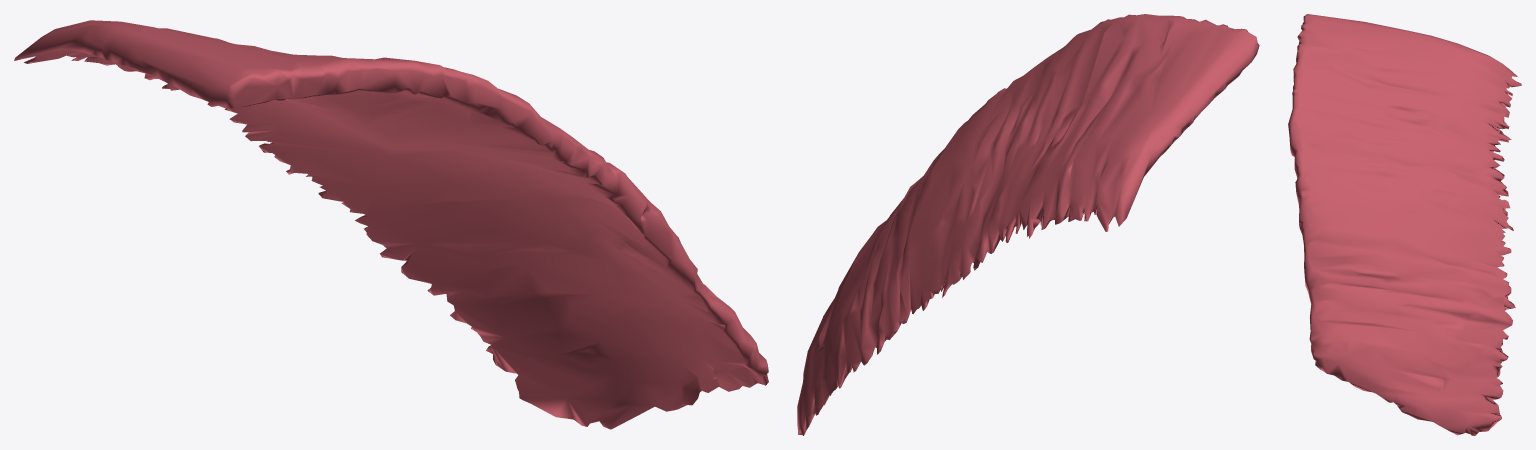
3 views of the same model, side by side, from view 1: azimuth 30°, elevation 25°; view 2: azimuth 150°, elevation 25°; view 3: azimuth 270°, elevation 25° (orthographic). The views are drawn at different scales.
Visible parts, largest first — view 1: 左侧枕肌; view 2: 左侧枕肌; view 3: 左侧枕肌.
Boxes of the visible parts, x1=… form: 左侧枕肌: x1=14, y1=20, x2=768, y2=429; 左侧枕肌: x1=797, y1=14, x2=1259, y2=435; 左侧枕肌: x1=1288, y1=14, x2=1521, y2=435.
Size of the model in its own units: 0.0686 by 0.0686 by 0.0487.
